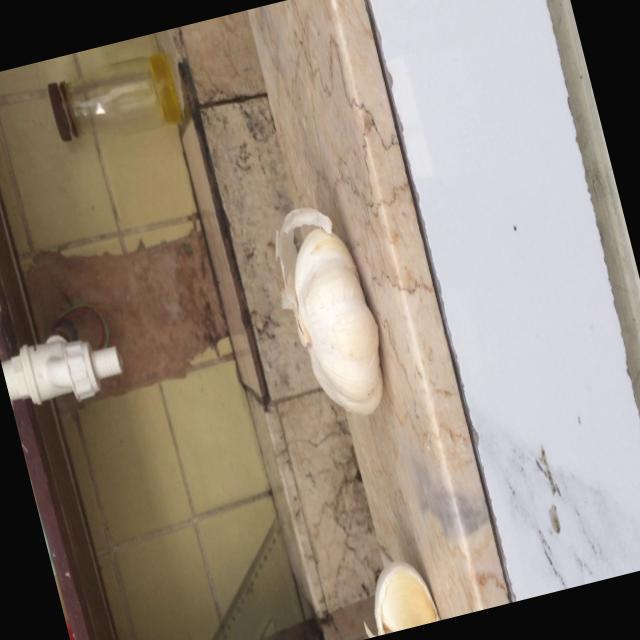bawang: (260, 194, 399, 430)
